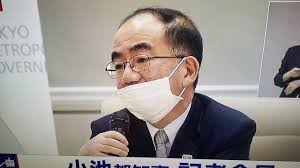mask_weared_incorrect: (102, 41, 179, 109)
